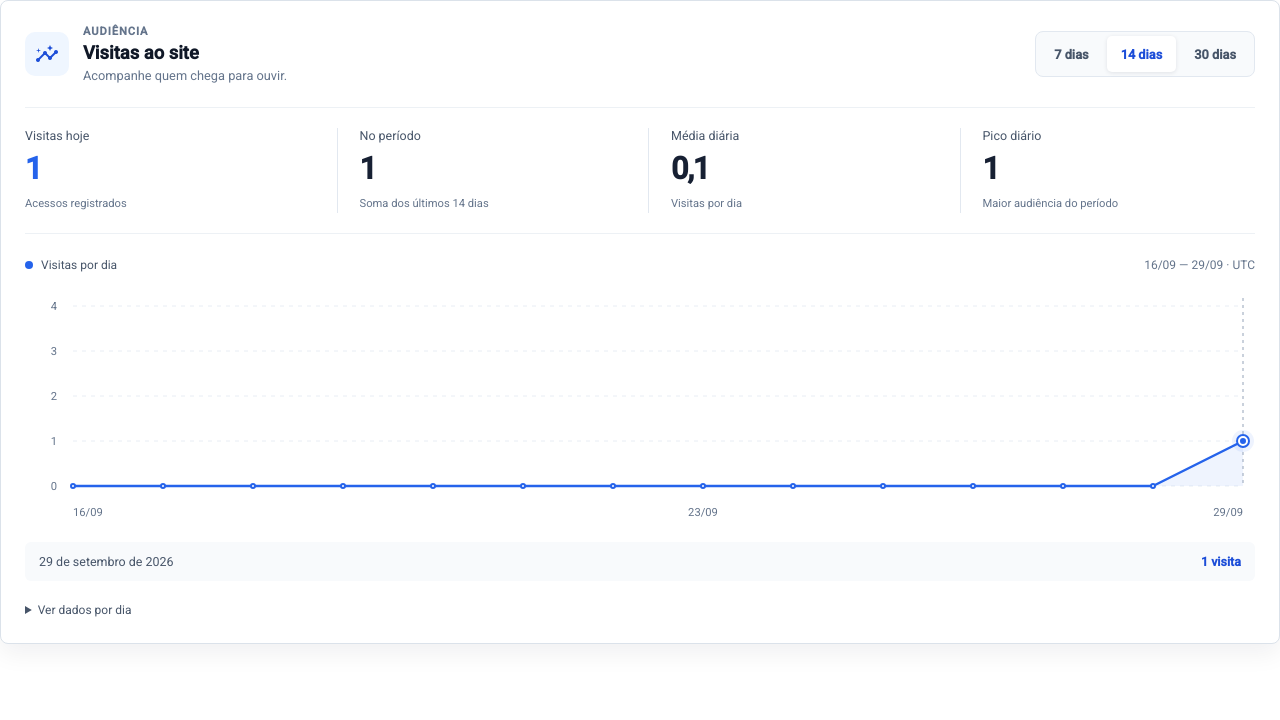
Test: ProfileVisitsChartComponent › switches periods through the rendered controls
Click the button "7 dias": click(1071, 54) [1040,36,1103,72]
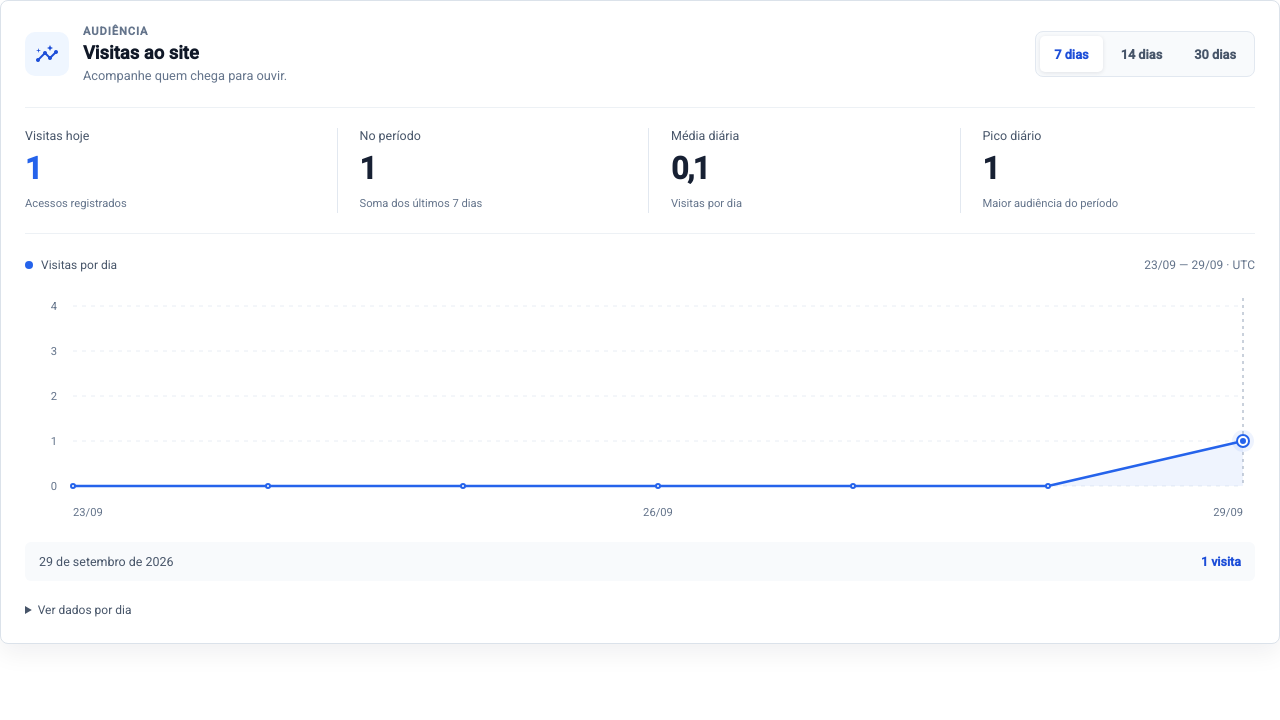
Now the number of buttons with class "chart-point" is 7
